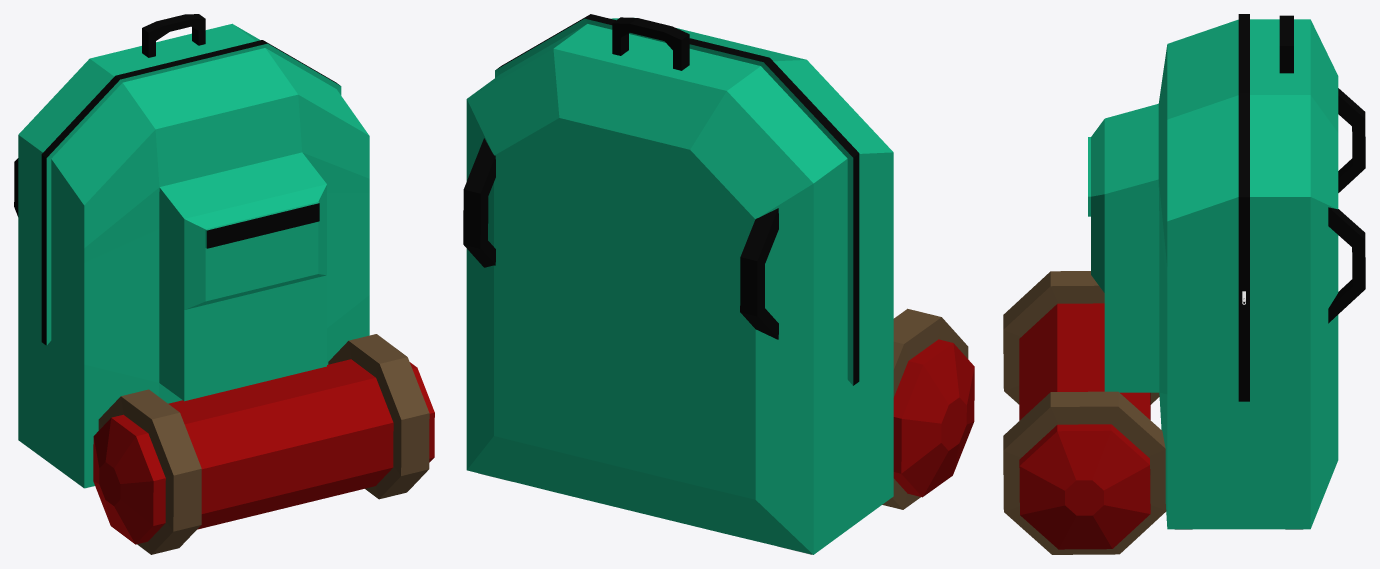
File: backpack.fbx
3 views of the same model, side by side, from view 1: azimuth 30°, elevation 25°; view 2: azimuth 150°, elevation 25°; view 3: azimuth 270°, elevation 25° (orthographic). The views are drawn at different scales.
Visible parts, largest first — view 1: Backpack, Camping Mat, Mat Holder Left, Mat Holder Right, Handle; view 2: Backpack, Camping Mat, Mat Holder Left, Strap Left, Strap Right, Handle; view 3: Backpack, Camping Mat, Mat Holder Right, Mat Holder Left, Strap Right, Strap Left, Handle.
Part boxes in pixels (x1,y1,x2,y2): Backpack: (18,23,369,488); Camping Mat: (93,359,434,544); Mat Holder Left: (98,389,201,554); Mat Holder Right: (328,334,429,499); Handle: (142,14,205,57); Backpack: (466,14,893,554); Camping Mat: (893,339,974,497); Mat Holder Left: (882,308,968,509); Strap Left: (740,208,778,339); Strap Right: (463,138,495,267); Handle: (612,17,689,70); Backpack: (1088,14,1338,529); Camping Mat: (1019,303,1150,549); Mat Holder Right: (1003,391,1166,554); Mat Holder Left: (1003,271,1159,404); Strap Right: (1328,207,1365,323); Strap Left: (1338,88,1365,192); Handle: (1279,15,1293,73).
Bounding box in the file's own units: 217 × 284 × 202.
